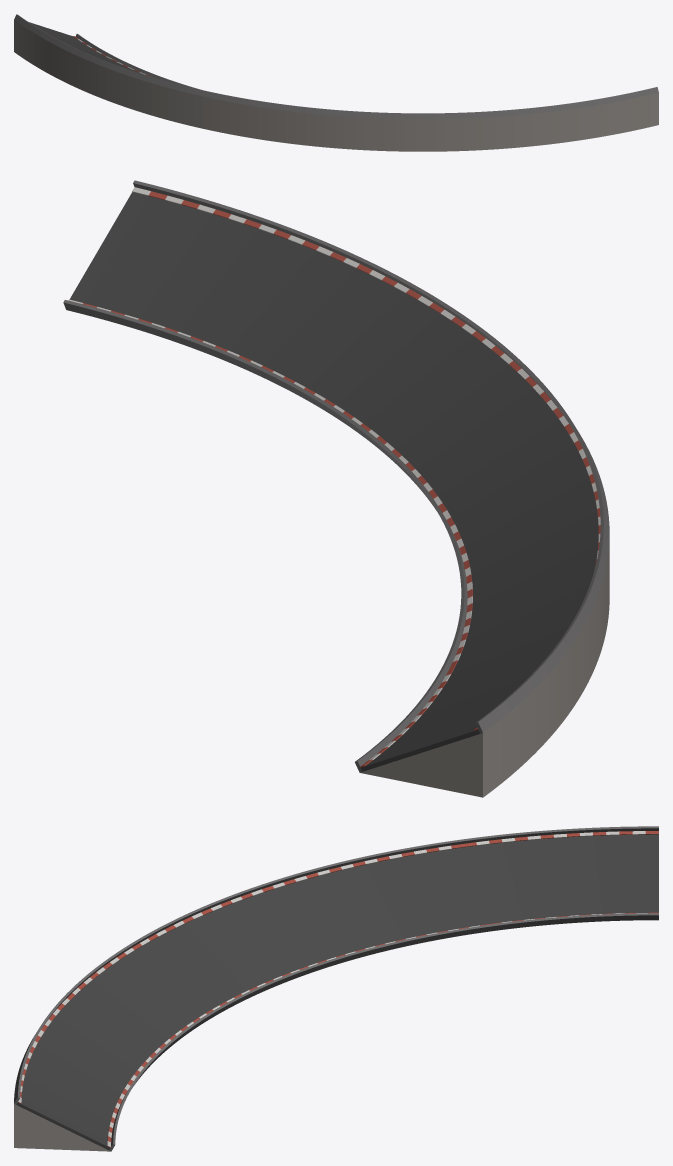
Rendered from tp-banked-corner.glb.
3 renders of one model, top to bottom at view 1: azimuth 30°, elevation 25°; view 2: azimuth 150°, elevation 25°; view 3: azimuth 270°, elevation 25°, orthographic. The views are drawn at different scales.
Parts seen in each view (by area): view 1: tp-banked-corner; view 2: tp-banked-corner; view 3: tp-banked-corner.
Boxes of the visible parts, x1,y1,x2,y2 form: tp-banked-corner: (14, 14, 658, 151); tp-banked-corner: (63, 180, 609, 797); tp-banked-corner: (14, 826, 658, 1151).
Size of what is drawn, in the model's own units: 102 by 9.45 by 102.
1 material, 1 textured.
